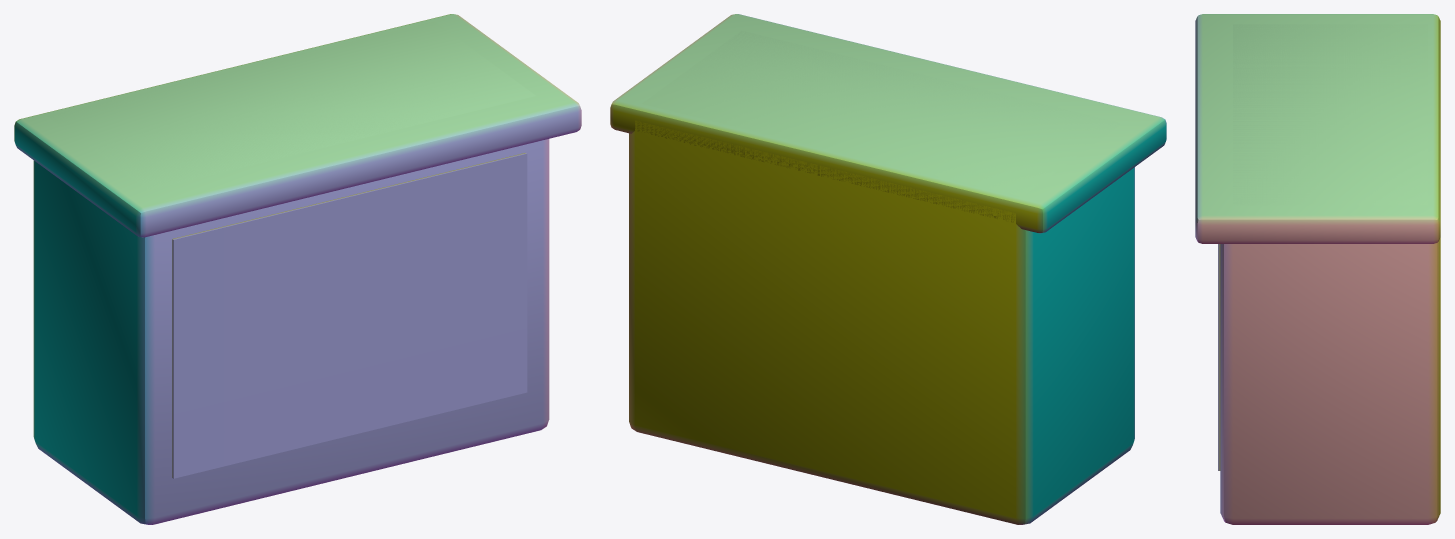
Rendered from kitchen_dresser_rack.glb.
3 renders of one model, left to right at view 1: azimuth 30°, elevation 25°; view 2: azimuth 150°, elevation 25°; view 3: azimuth 270°, elevation 25°, orthographic. The views are drawn at different scales.
Visible parts, largest first — view 1: kitchen_dresser_rack; view 2: kitchen_dresser_rack; view 3: kitchen_dresser_rack.
Part boxes in pixels (x1,y1,x2,y2): kitchen_dresser_rack: (14,14,581,524); kitchen_dresser_rack: (610,14,1166,524); kitchen_dresser_rack: (1195,14,1440,524).
Size of the model in its own units: 0.78 by 0.56 by 0.39.
